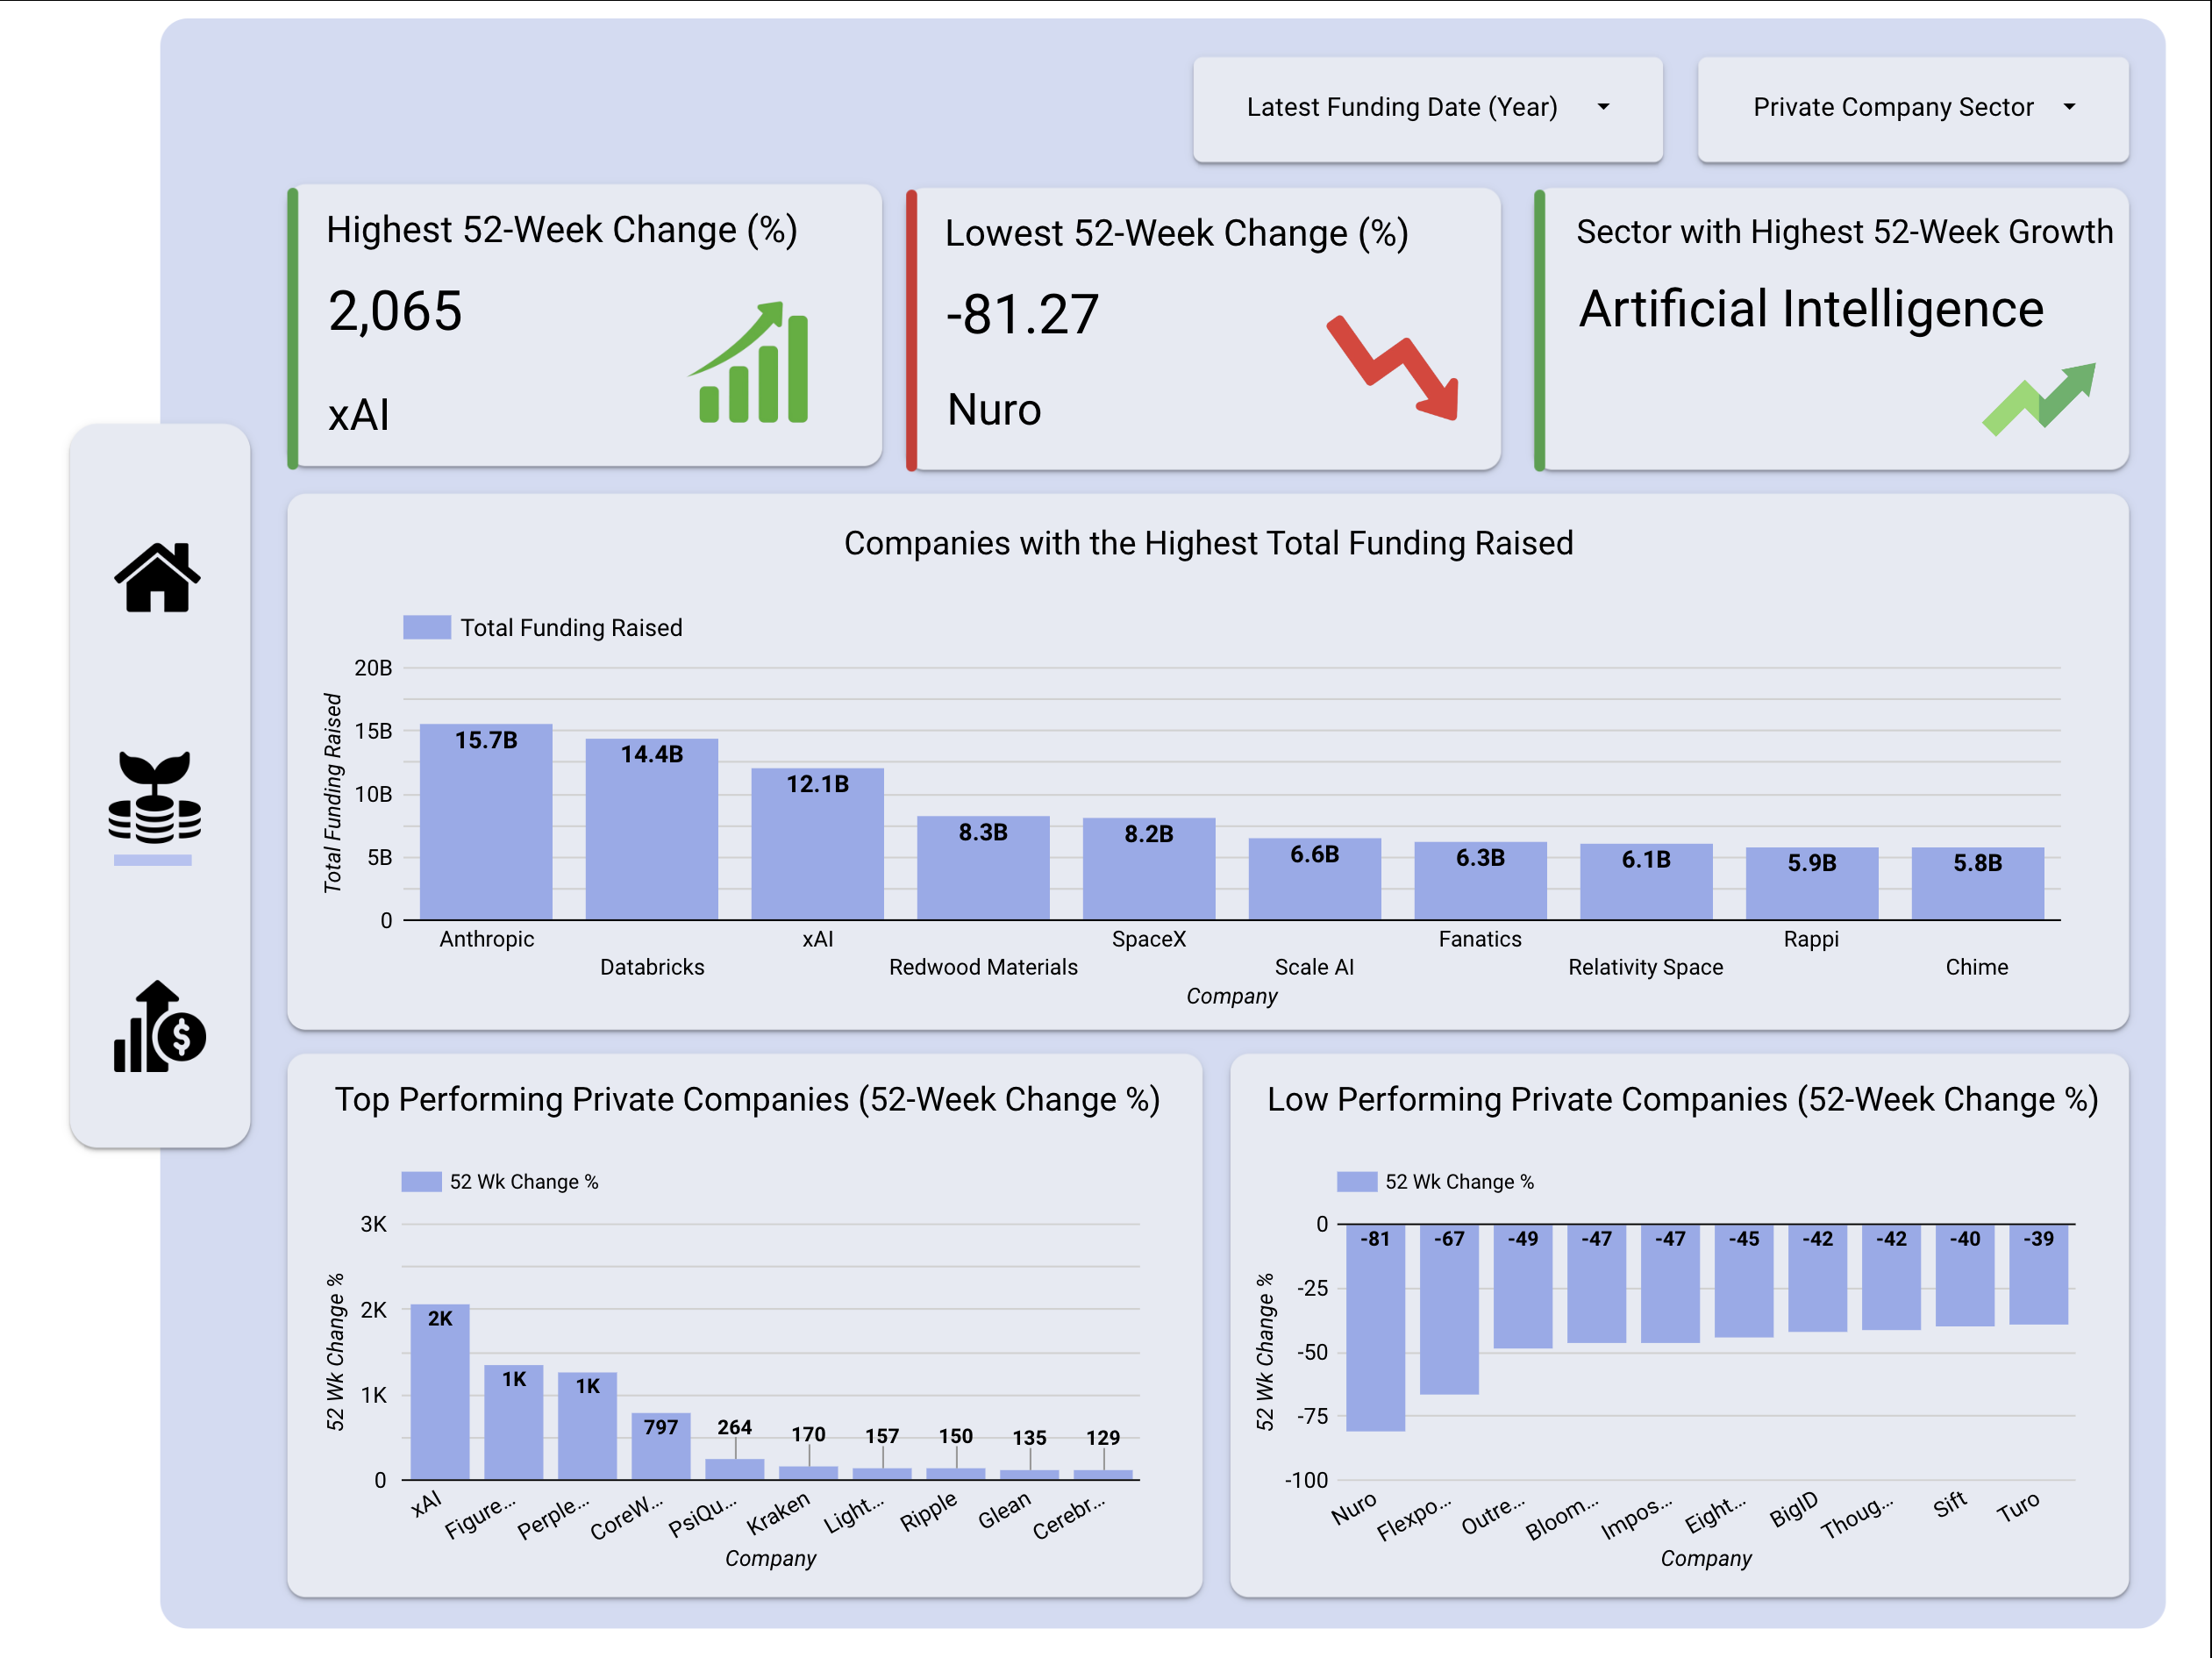

What the dashboard file says about the page in this screenshot:
{"tool":"powerbi","page":{"name":"Page 2","canvas":[1280,720],"ordinal":1},"visuals":[{"type":"shape","box":[80.7,17.1,1182.5,687.2],"z":0},{"type":"shape","box":[33,205.4,95.4,362],"z":1000},{"type":"shape","box":[150.4,105.2,339.9,137],"z":2000},{"type":"shape","box":[529.5,105.2,339.9,137],"z":3000},{"type":"shape","box":[904.9,105.2,339.9,137],"z":4000},{"type":"shape","box":[985.3,28.8,259.3,63.1],"z":5000},{"type":"shape","box":[734.1,28.8,236,63.1],"z":6000},{"type":"shape","box":[150.4,250.7,1094.4,211.6],"z":7000},{"type":"shape","box":[699.8,472,544.8,219.6],"z":8000},{"type":"shape","box":[150.4,472,539.3,220.1],"z":9000},{"type":"shape","box":[150.4,105.2,12.2,137],"z":10000},{"type":"shape","box":[904.9,105.2,12.2,137],"z":11000},{"type":"shape","box":[529.5,105.2,12.2,137],"z":12000},{"type":"columnChart","title":"Top 10 Companies with Highest Total Funding Raised","fields":{"Category":["cleaned_private_companies.Company"],"Y":["Sum(cleaned_private_companies.Total Funding Raised)"]},"box":[163.3,260.7,1069,196.2],"z":13000},{"type":"columnChart","title":"Top Performing Private Companies (52-Week Change %)","fields":{"Category":["cleaned_private_companies.Company"],"Y":["Sum(cleaned_private_companies.52 Wk Change %)"]},"box":[156.4,483,533.8,208.6],"z":14000},{"type":"columnChart","title":"Low Performing Private Companies (52-Week Change %)","fields":{"Category":["cleaned_private_companies.Company"],"Y":["Sum(cleaned_private_companies.52 Wk Change %)"]},"box":[705.3,483,533.8,203.1],"z":15000},{"type":"card","title":"Sector with Highest 52-Week Growth","fields":{"Values":["cleaned_private_companies.TopSector"]},"box":[920.8,115.3,242.9,97.4],"z":16000},{"type":"card","title":"Highest 52-Week Change (%)","fields":{"Values":["Max(cleaned_private_companies.52 Wk Change %)"]},"box":[179.8,137.2,105.7,53.5],"z":17000},{"type":"card","title":"Lowest 52-Week Change (%)","fields":{"Values":["Min(cleaned_private_companies.52 Wk Change %)"]},"box":[535.2,137.2,155.1,53.5],"z":18000},{"type":"card","title":"Sector with Highest 52-Week Growth","fields":{"Values":["cleaned_private_companies.Low52Week"]},"box":[179.8,192.1,56.3,42.5],"z":19000},{"type":"card","title":"Sector with Highest 52-Week Growth","fields":{"Values":["cleaned_private_companies.Low52Week"]},"box":[542,196.2,97.4,34.3],"z":20000},{"type":"slicer","fields":{"Values":["cleaned_private_companies.Private Company Sector"]},"box":[986.6,28.8,258,64.5],"z":21000},{"type":"slicer","fields":{"Values":["cleaned_private_companies.Latest Funding Date.Variation.Date Hierarchy.Year"]},"box":[736.9,28.8,233.3,64.5],"z":22000},{"type":"image","box":[787.7,174.3,82.3,68.6],"z":23000},{"type":"image","box":[385.6,156.4,105.7,86.4],"z":24000},{"type":"image","box":[1163.6,168.8,75.5,74.1],"z":25000},{"type":"image","box":[48,251.1,65.9,67.2],"z":26000},{"type":"image","box":[39.8,371.9,74.1,60.4],"z":27000},{"type":"image","box":[48,472,65.9,64.5],"z":28000},{"type":"shape","box":[54.9,426.8,43.9,12.3],"z":29000},{"type":"textbox","box":[550.3,105.7,285.4,37],"z":30000},{"type":"textbox","box":[179.8,105.7,274.4,37],"z":31000}]}

Visuals, with their boxes on the page's 1280x720 design canvas (x1, y1, x2, y2). These are canvas units, not pixel positions in the 2212x1658 screenshot, which may show the page scaled, cropped or inside an application window:
shape: [left=81, top=17, right=1263, bottom=704]
shape: [left=33, top=205, right=128, bottom=567]
shape: [left=150, top=105, right=490, bottom=242]
shape: [left=530, top=105, right=869, bottom=242]
shape: [left=905, top=105, right=1245, bottom=242]
shape: [left=985, top=29, right=1245, bottom=92]
shape: [left=734, top=29, right=970, bottom=92]
shape: [left=150, top=251, right=1245, bottom=462]
shape: [left=700, top=472, right=1245, bottom=692]
shape: [left=150, top=472, right=690, bottom=692]
shape: [left=150, top=105, right=163, bottom=242]
shape: [left=905, top=105, right=917, bottom=242]
shape: [left=530, top=105, right=542, bottom=242]
"Top 10 Companies with Highest Total Funding Raised" columnChart: [left=163, top=261, right=1232, bottom=457]
"Top Performing Private Companies (52-Week Change %)" columnChart: [left=156, top=483, right=690, bottom=692]
"Low Performing Private Companies (52-Week Change %)" columnChart: [left=705, top=483, right=1239, bottom=686]
"Sector with Highest 52-Week Growth" card: [left=921, top=115, right=1164, bottom=213]
"Highest 52-Week Change (%)" card: [left=180, top=137, right=286, bottom=191]
"Lowest 52-Week Change (%)" card: [left=535, top=137, right=690, bottom=191]
"Sector with Highest 52-Week Growth" card: [left=180, top=192, right=236, bottom=235]
"Sector with Highest 52-Week Growth" card: [left=542, top=196, right=639, bottom=230]
slicer - cleaned_private_companies.Private Company Sector: [left=987, top=29, right=1245, bottom=93]
slicer - cleaned_private_companies.Latest Funding Date.Variation.Date Hierarchy.Year: [left=737, top=29, right=970, bottom=93]
image: [left=788, top=174, right=870, bottom=243]
image: [left=386, top=156, right=491, bottom=243]
image: [left=1164, top=169, right=1239, bottom=243]
image: [left=48, top=251, right=114, bottom=318]
image: [left=40, top=372, right=114, bottom=432]
image: [left=48, top=472, right=114, bottom=536]
shape: [left=55, top=427, right=99, bottom=439]
textbox: [left=550, top=106, right=836, bottom=143]
textbox: [left=180, top=106, right=454, bottom=143]
